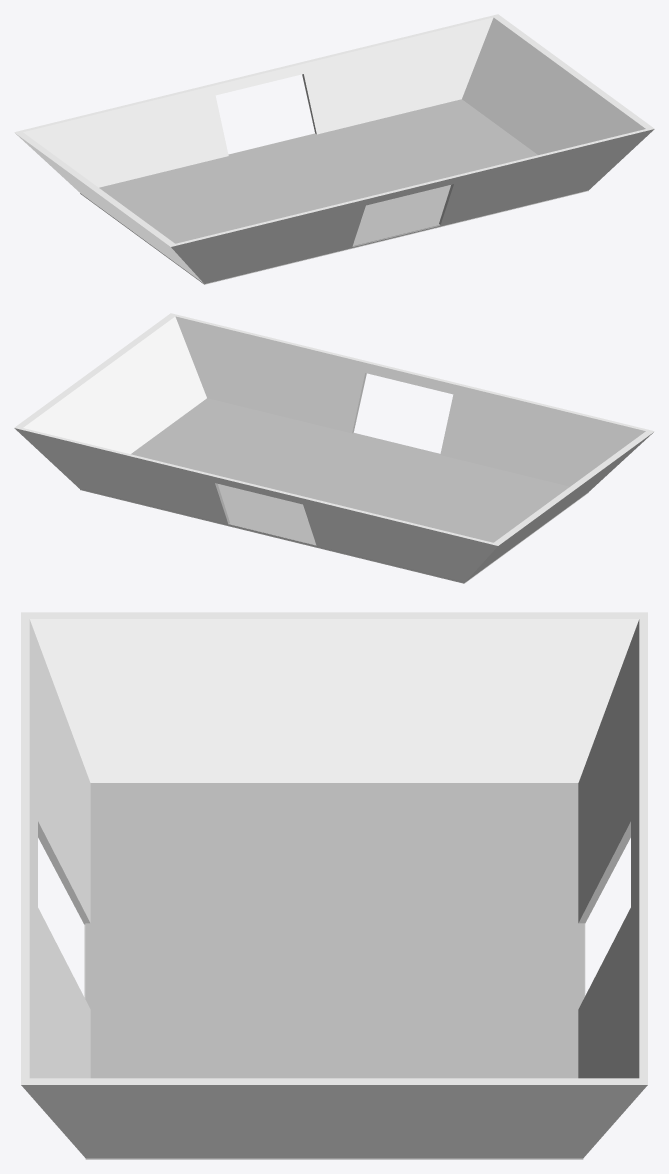
The model's file is TopBottom.fbx.
3 renders of one model, top to bottom at view 1: azimuth 30°, elevation 25°; view 2: azimuth 150°, elevation 25°; view 3: azimuth 270°, elevation 25°, orthographic. The views are drawn at different scales.
Visible parts, largest first — view 1: Room14, Piso1; view 2: Room14, Piso1; view 3: Room14, Piso1.
Part boxes in pixels (x1,y1,x2,y2): Room14: (14,14,654,284); Piso1: (99,99,537,246); Room14: (14,313,654,583); Piso1: (82,398,569,581); Room14: (21,612,647,1159); Piso1: (85,783,584,1078).
Bounding box in the file's own units: 4100 × 500 × 2300.
